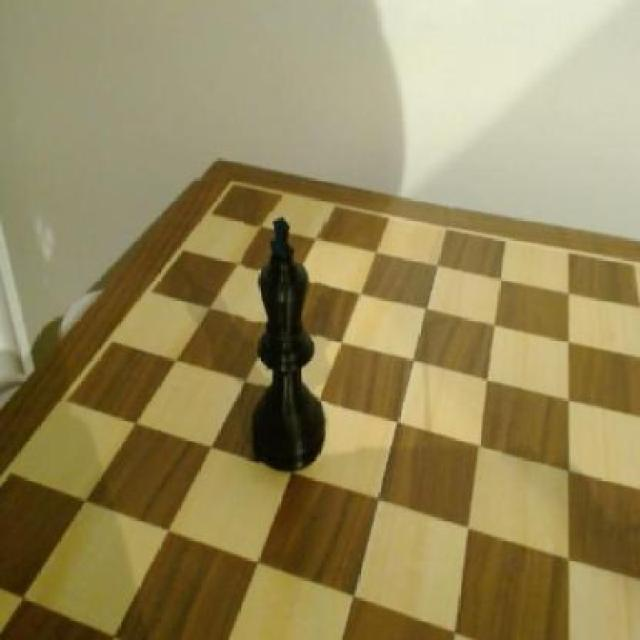black-bishop: (244, 212, 328, 472)
